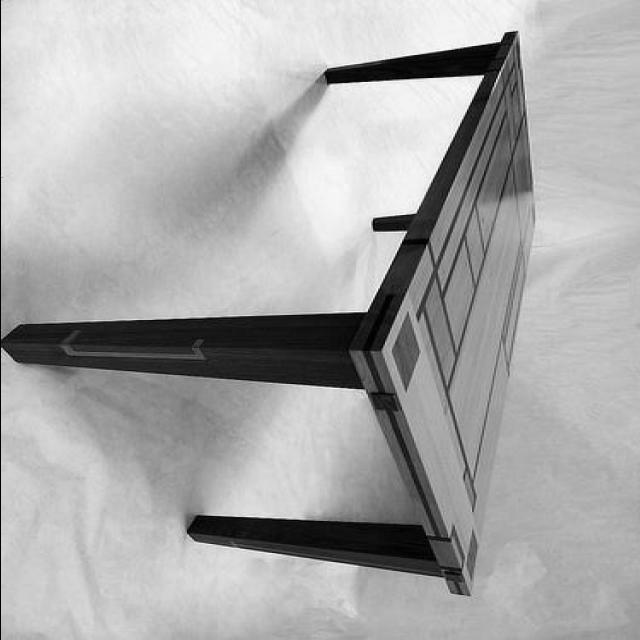table: (2, 32, 536, 596)
